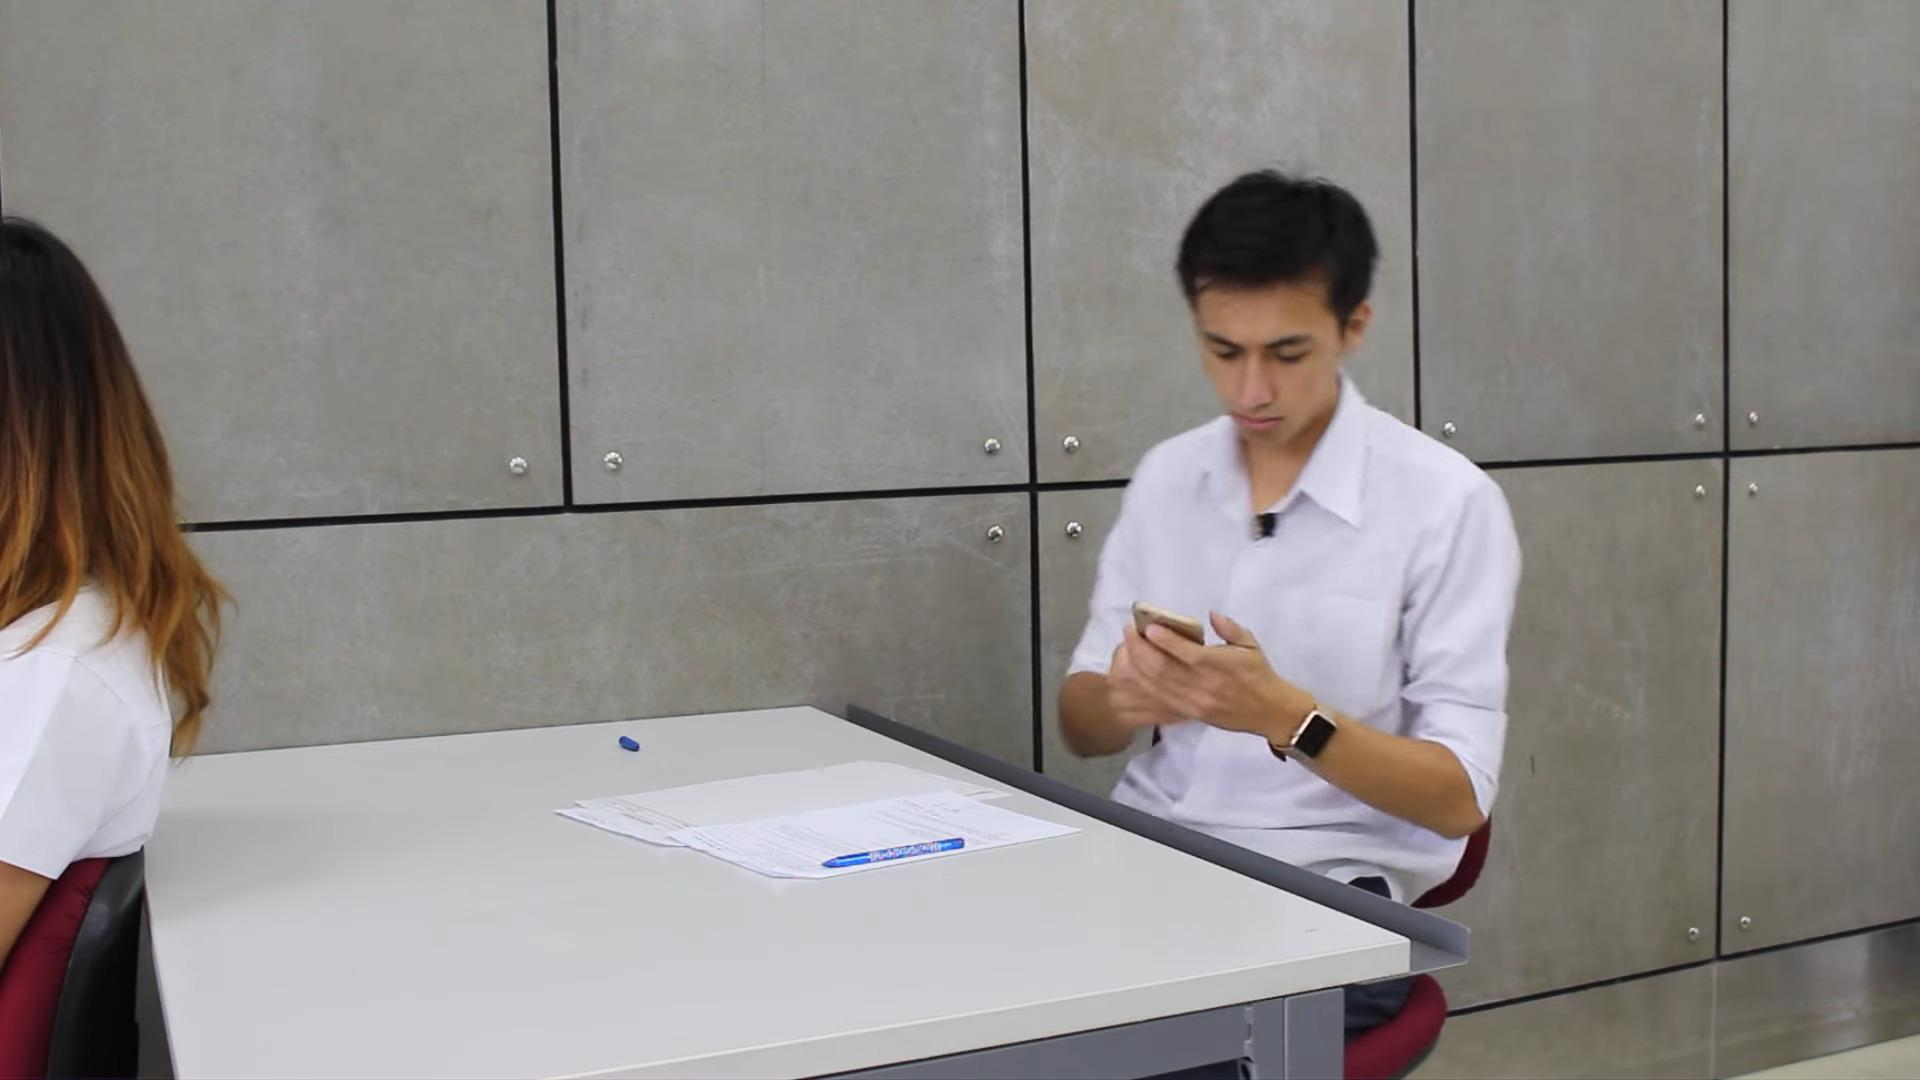cheating: (500, 150, 1553, 924)
